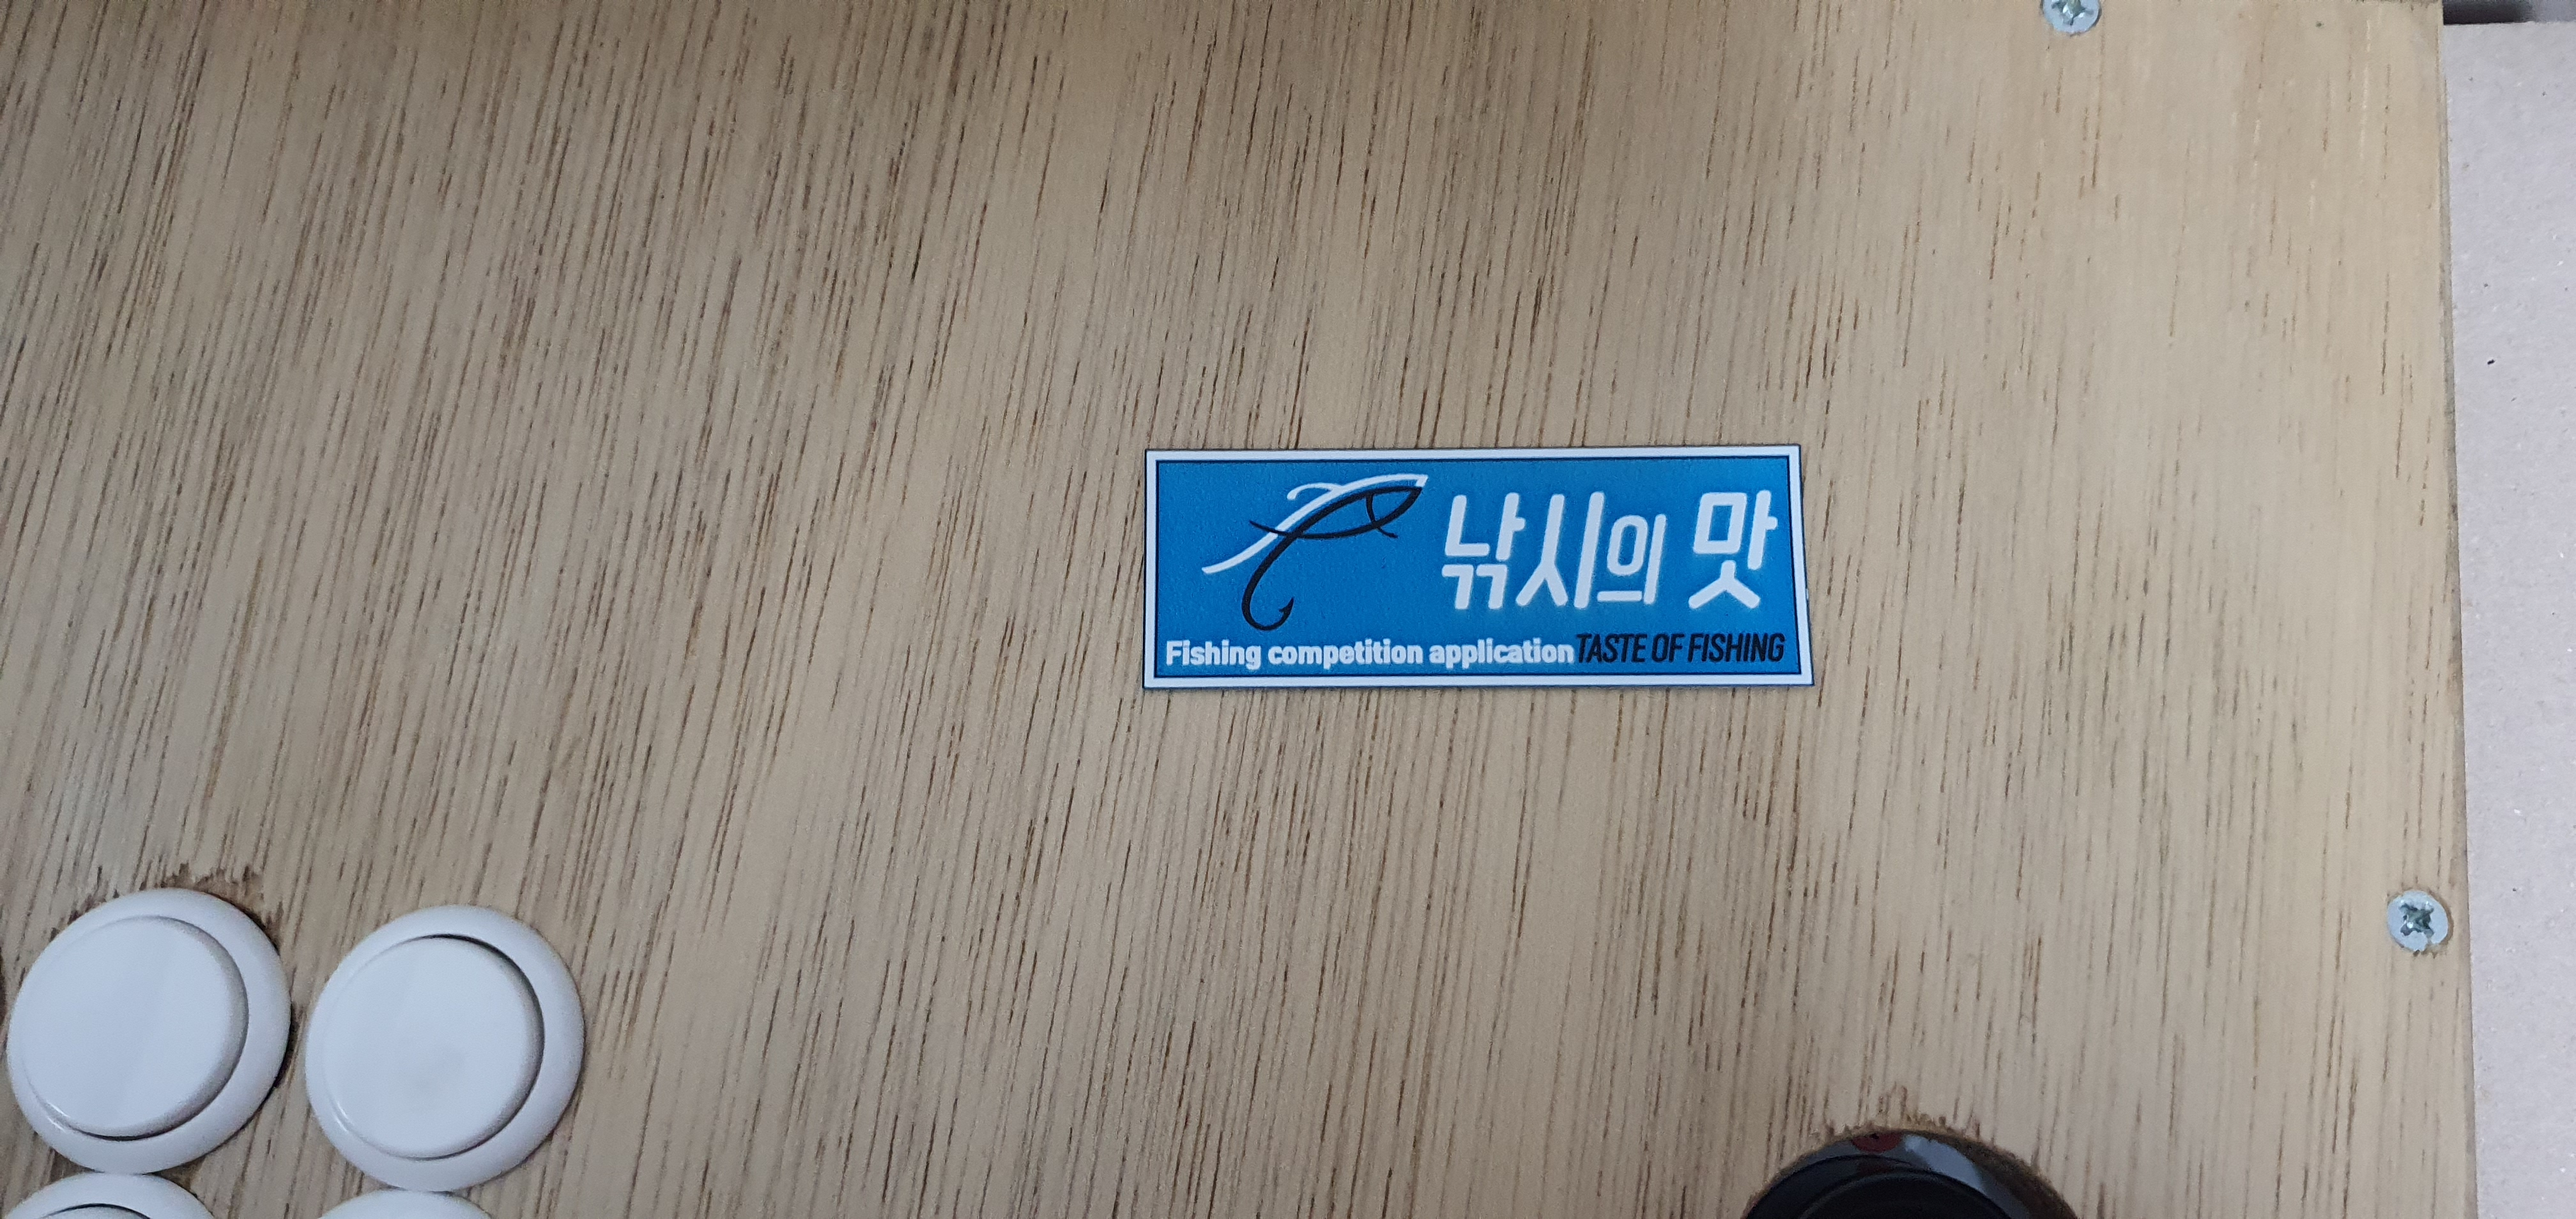tag: (1147, 447, 1819, 695)
